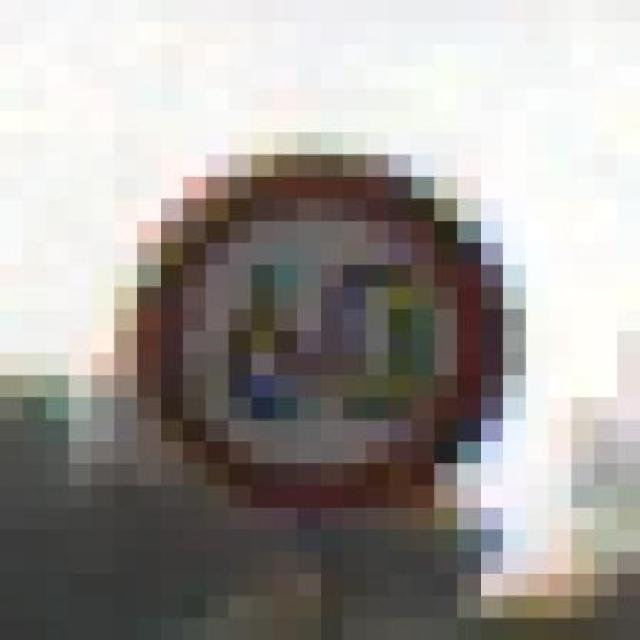forb_speed_over_60: (140, 153, 506, 509)
